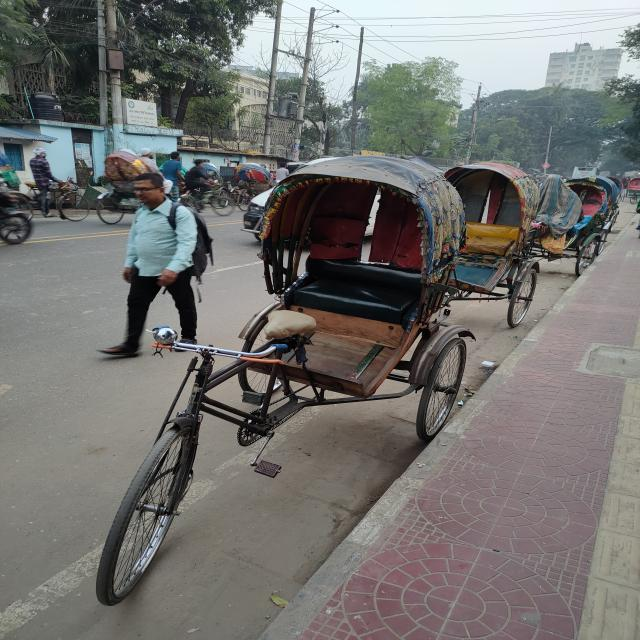rikshaw: (122, 131, 506, 568)
